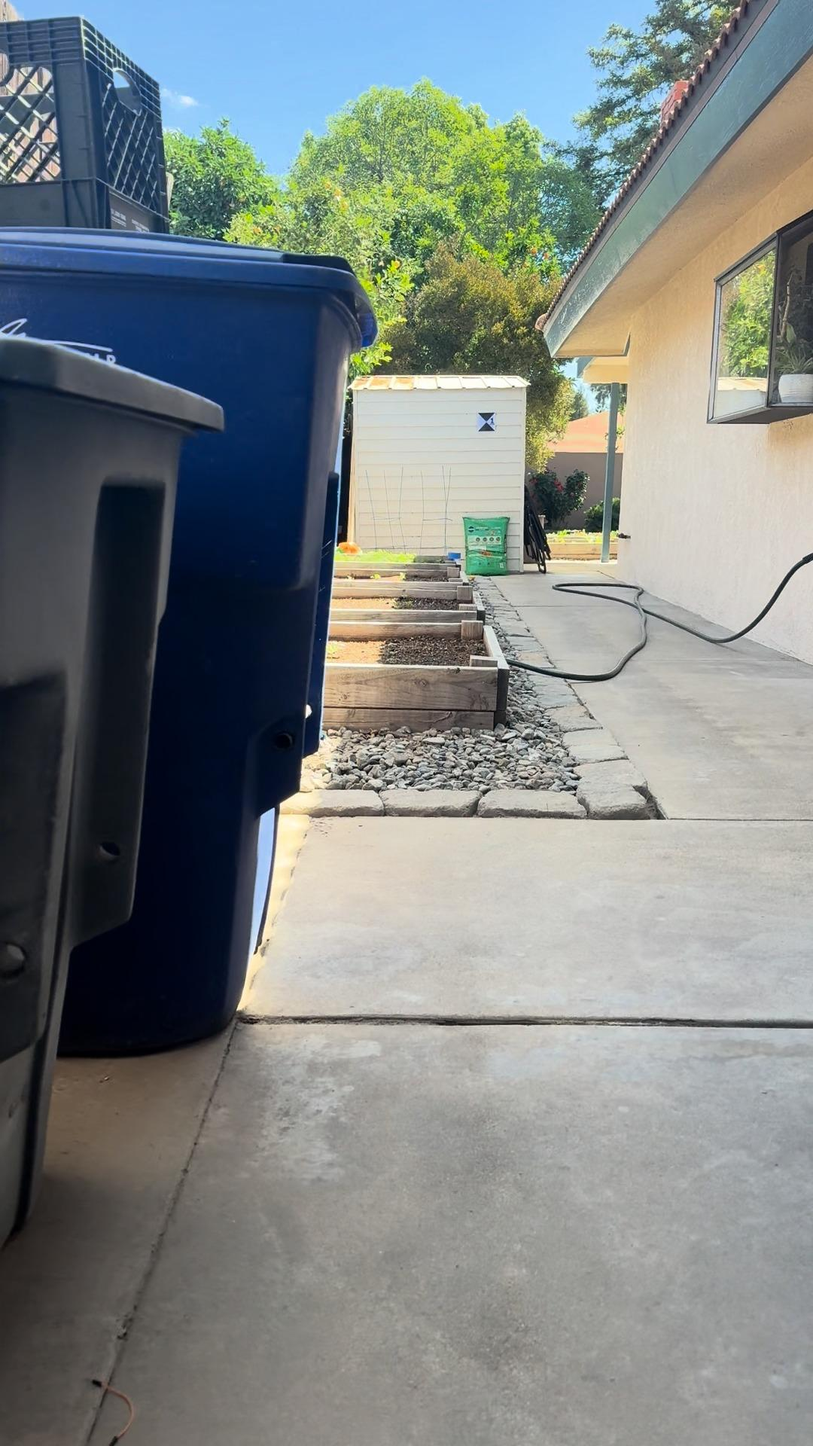target1: (473, 409, 500, 434)
